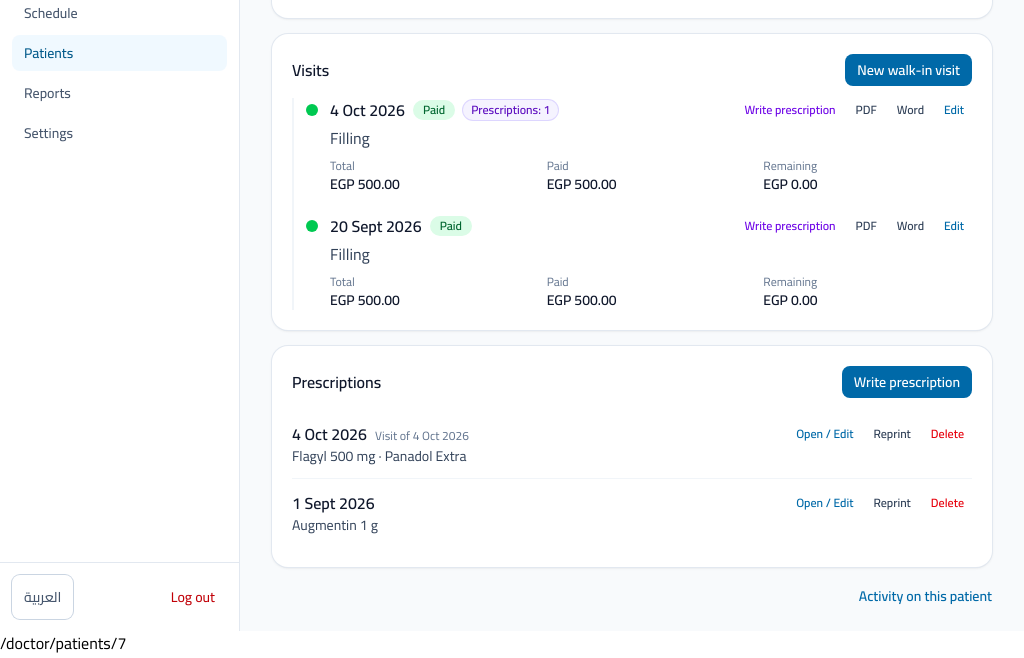
Test: PatientDetails: prescriptions › deletes a prescription after confirmation
(page scrolled)
Click the button with aria-label "Delete the prescription of 1 Sept 2026": (947, 503) [923,491,972,515]
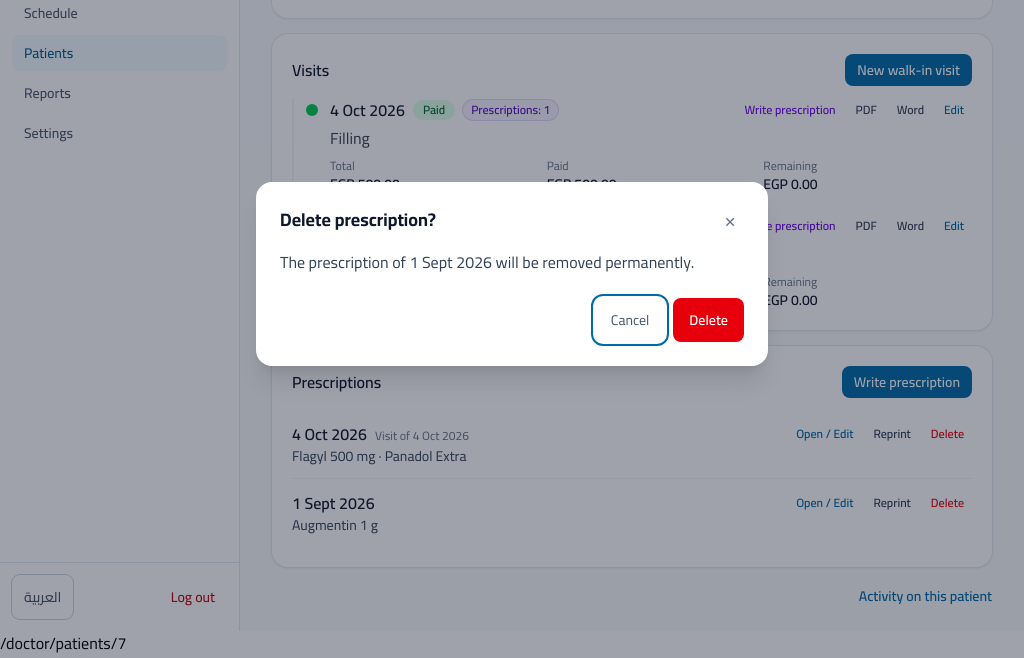
Now the dialog "Delete prescription?" shows "The prescription of 1 Sept 2026 will be removed permanently.", box [280,247,694,277]
Click the button "Delete": (709, 320) [673,298,744,342]
(page scrolled)
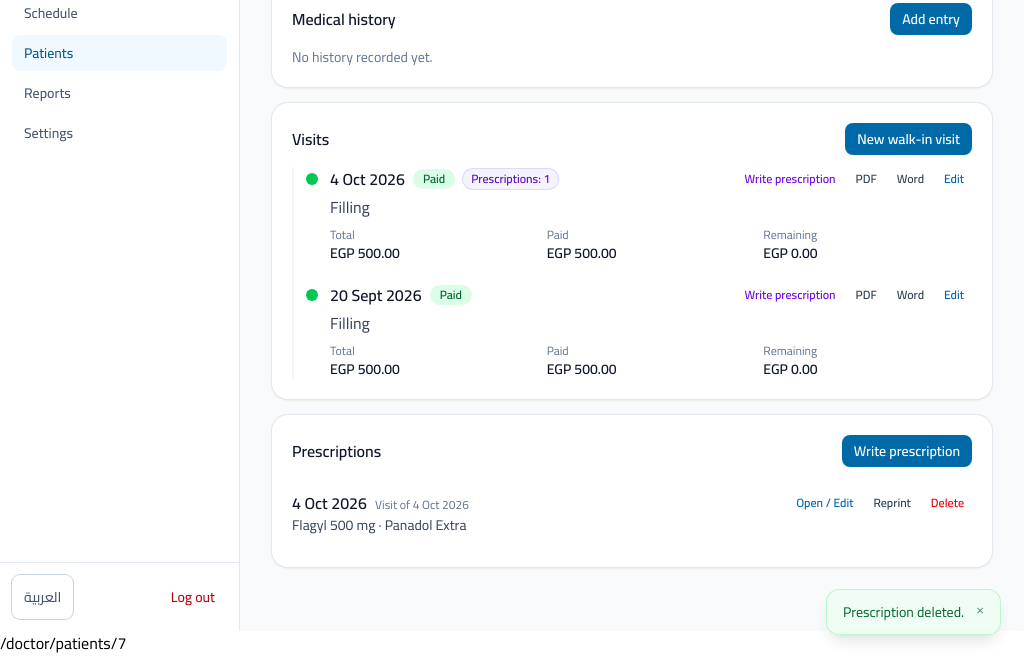
Now the text "Prescription deleted." is shown, box [843,602,964,622]
